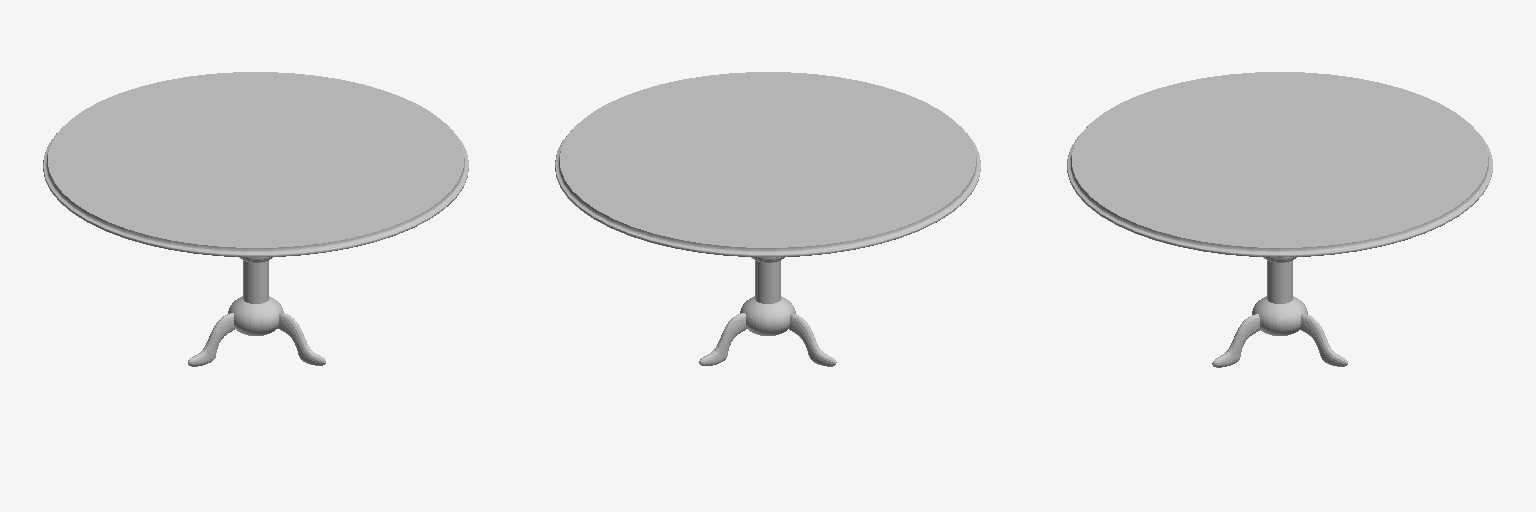
Rendered from table.obj.
3 renders of one model, left to right at view 1: azimuth 30°, elevation 25°; view 2: azimuth 150°, elevation 25°; view 3: azimuth 270°, elevation 25°, orthographic.
Parts seen in each view (by area): view 1: default; view 2: default; view 3: default.
Part boxes in pixels (x1,y1,x2,y2): default: (43,72,468,366); default: (555,72,980,366); default: (1067,72,1492,367).
Size of the model in its own units: 0.7358 by 0.3655 by 0.7344.